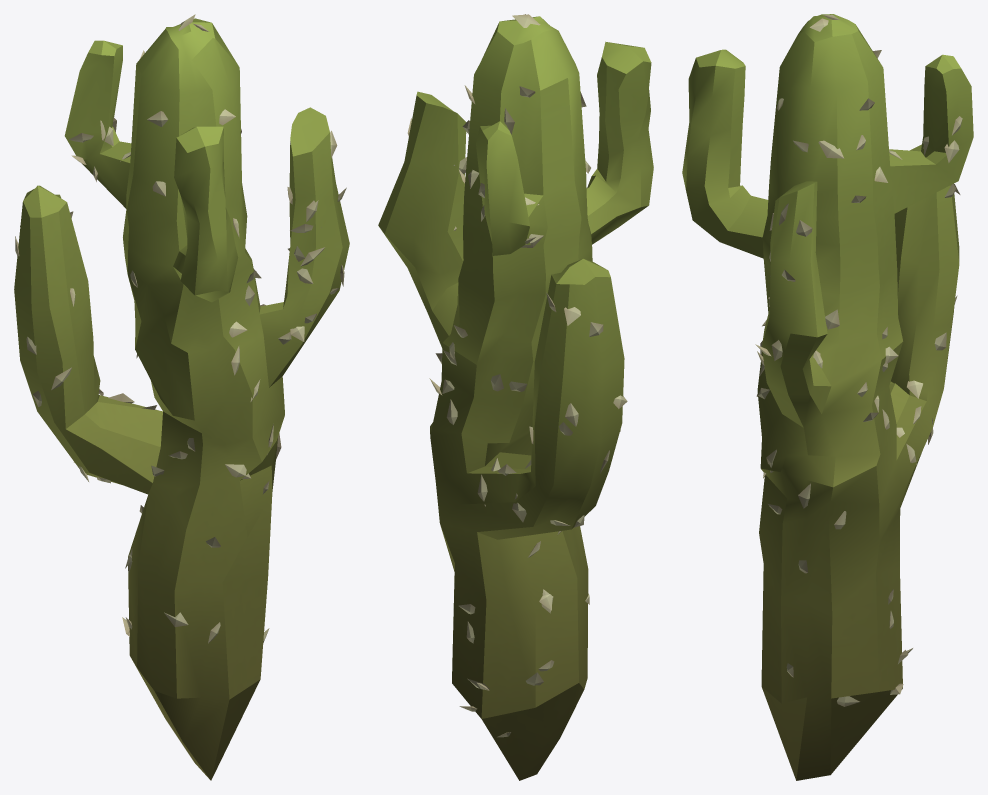
The model's file is Cactus7.fbx.
3 views of the same model, side by side, from view 1: azimuth 30°, elevation 25°; view 2: azimuth 150°, elevation 25°; view 3: azimuth 270°, elevation 25° (orthographic). The views are drawn at different scales.
Visible parts, largest first — view 1: Cactus7; view 2: Cactus7; view 3: Cactus7.
Part boxes in pixels (box(x1,y1,x2,y2)): Cactus7: box(14, 14, 349, 780); Cactus7: box(378, 14, 653, 780); Cactus7: box(682, 14, 973, 780).
Bounding box in the file's own units: 255 × 662 × 229.
